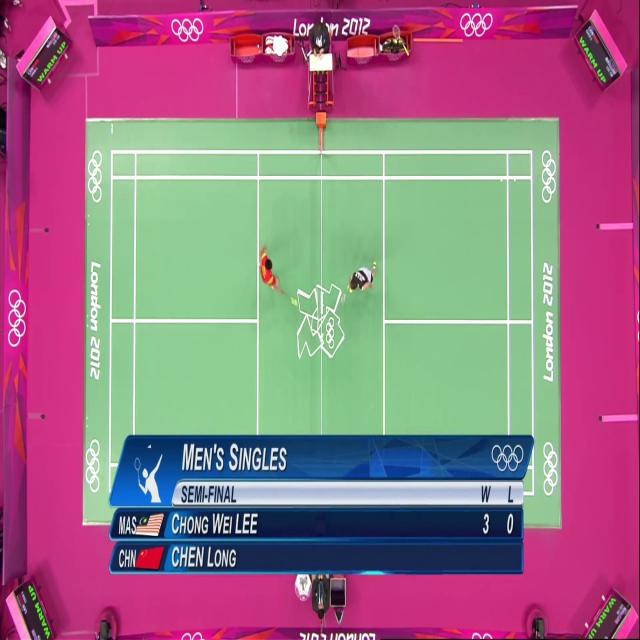Net: (312, 115, 332, 542)
Player1: (346, 225, 396, 314)
Player2: (252, 223, 298, 321)
